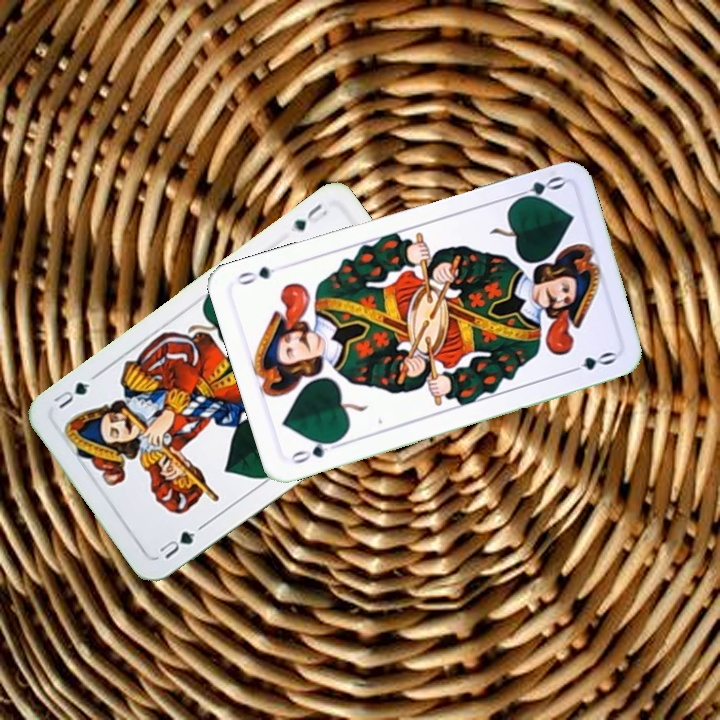GO: (508, 172, 567, 205), (286, 435, 344, 467)
GU: (286, 199, 330, 235), (155, 527, 198, 562)
